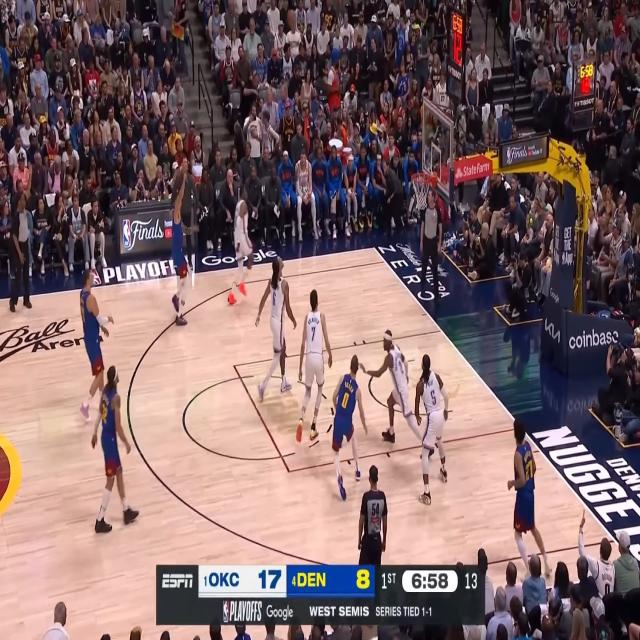ball: (286, 6, 298, 29)
number: (525, 460, 534, 480), (341, 391, 349, 408), (431, 389, 436, 405), (272, 291, 276, 307), (311, 325, 315, 340)
player: (358, 326, 436, 458), (90, 363, 139, 534), (507, 416, 553, 584), (253, 255, 297, 400), (296, 288, 333, 444), (79, 265, 114, 422), (332, 352, 368, 503), (414, 353, 449, 505), (228, 185, 255, 306), (170, 171, 189, 327)
referee: (8, 191, 33, 311), (358, 465, 388, 562), (420, 189, 443, 298)
rim: (410, 170, 432, 185)
